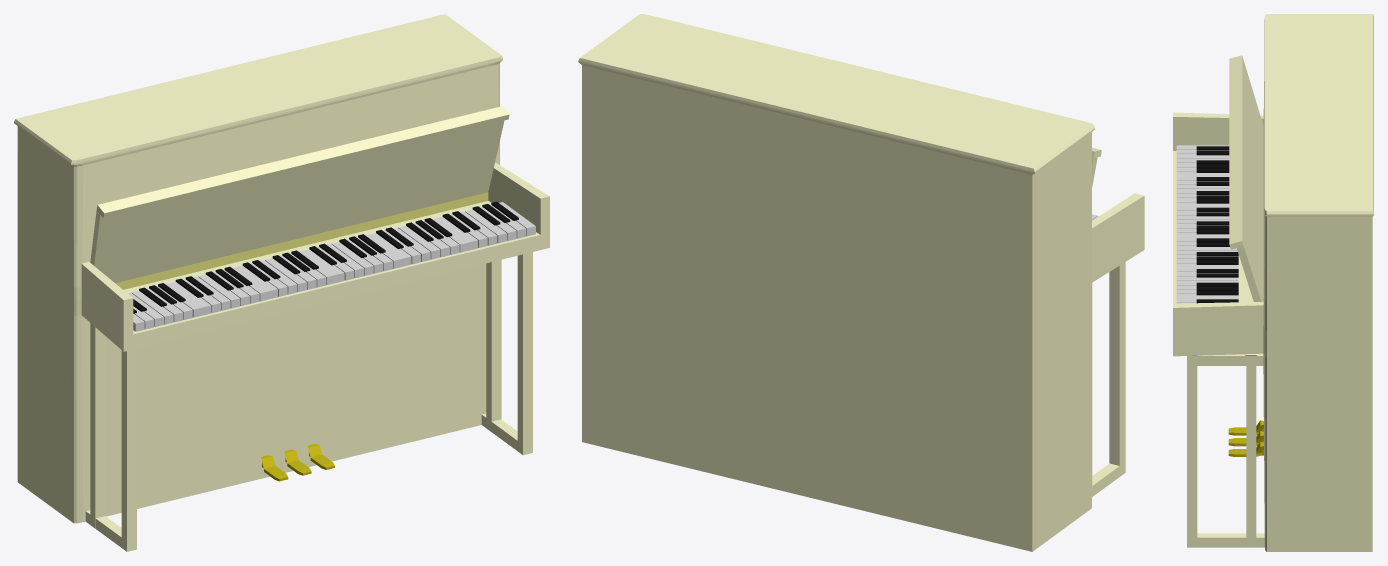
The model's file is Piano2.fbx.
3 views of the same model, side by side, from view 1: azimuth 30°, elevation 25°; view 2: azimuth 150°, elevation 25°; view 3: azimuth 270°, elevation 25° (orthographic). The views are drawn at different scales.
Visible parts, largest first — view 1: 49keysmidi.028; view 2: 49keysmidi.028; view 3: 49keysmidi.028.
Boxes of the visible parts, left/top/right/bottom form: 49keysmidi.028: left=14, top=14, right=549, bottom=551; 49keysmidi.028: left=578, top=14, right=1144, bottom=551; 49keysmidi.028: left=1173, top=14, right=1373, bottom=551.
Bounding box in the file's own units: 152 × 122 × 65.1.
